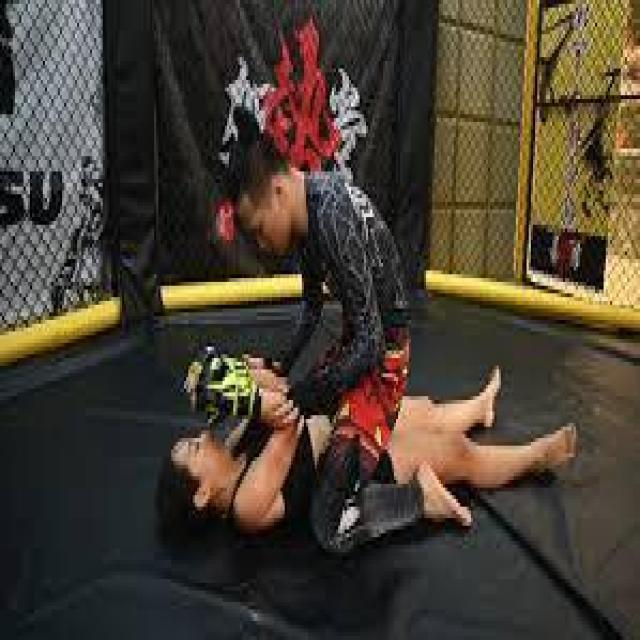fall: (131, 347, 595, 537)
nonfall: (224, 113, 470, 564)
